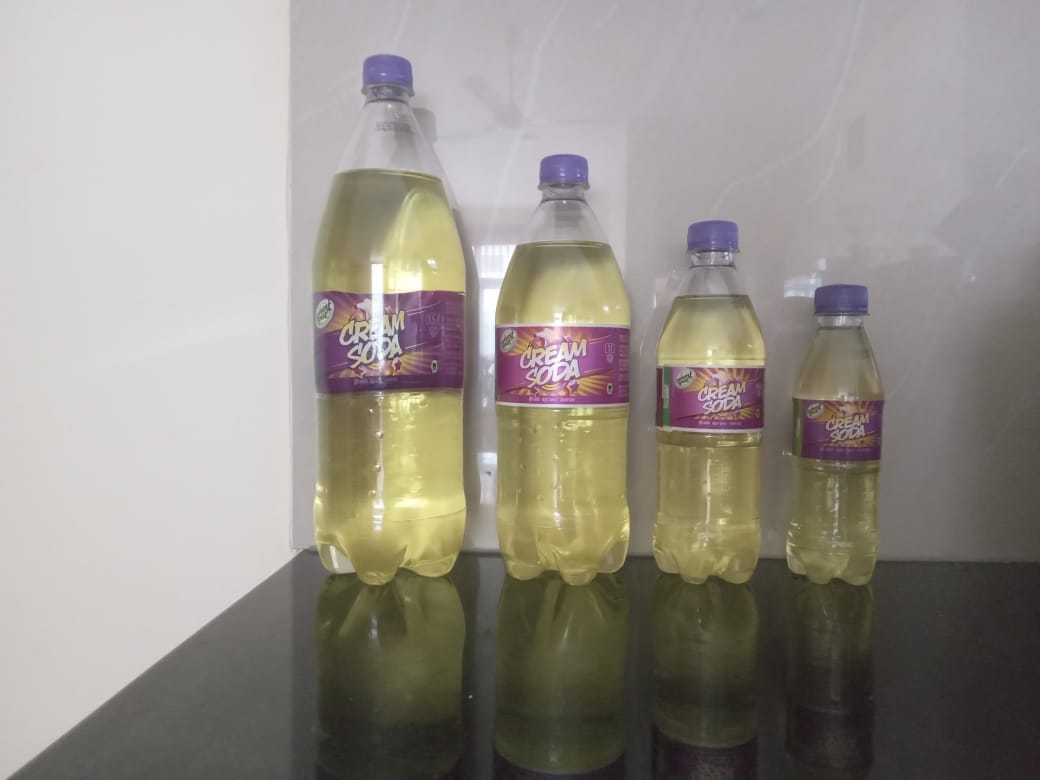L: (305, 52, 470, 583)
M: (495, 153, 635, 588)
S: (651, 219, 768, 594)
Xs: (783, 285, 890, 590)
